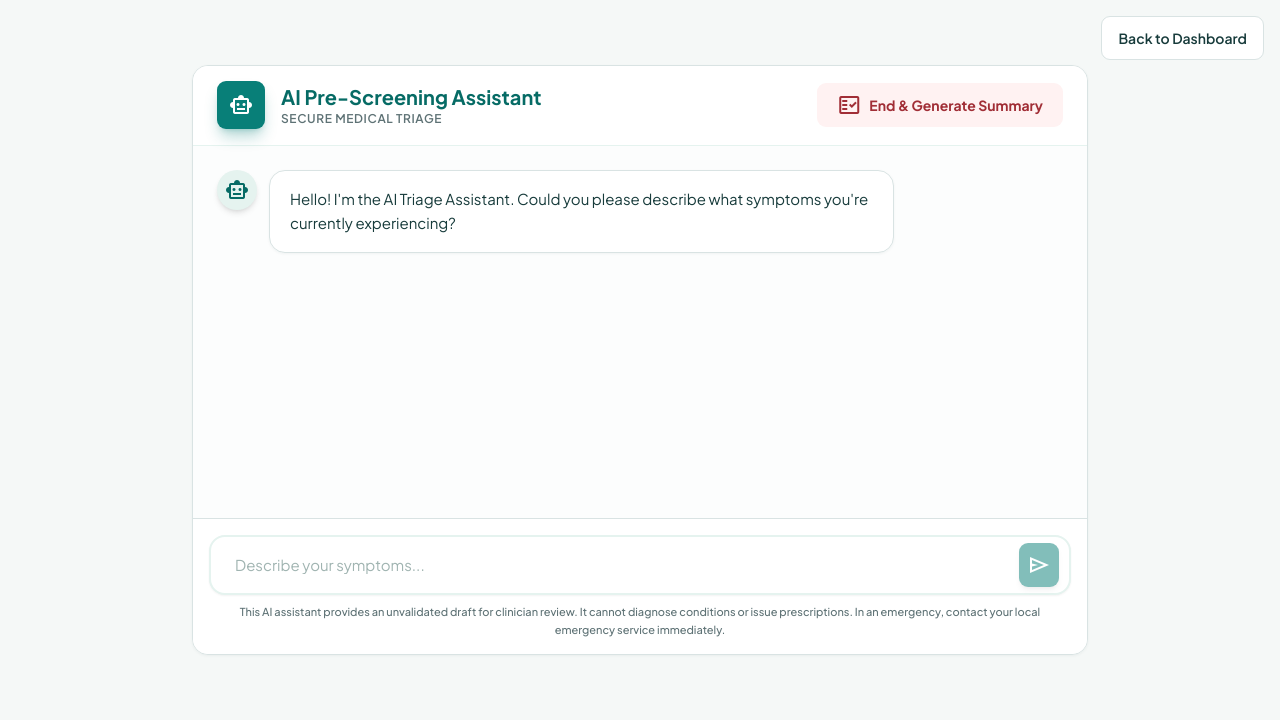
Test case: allows retry after summary failure and labels successful summaries as unvalidated drafts
Click the button "End & Generate Summary": (940, 105) top-left (817, 83), bottom-right (1063, 127)
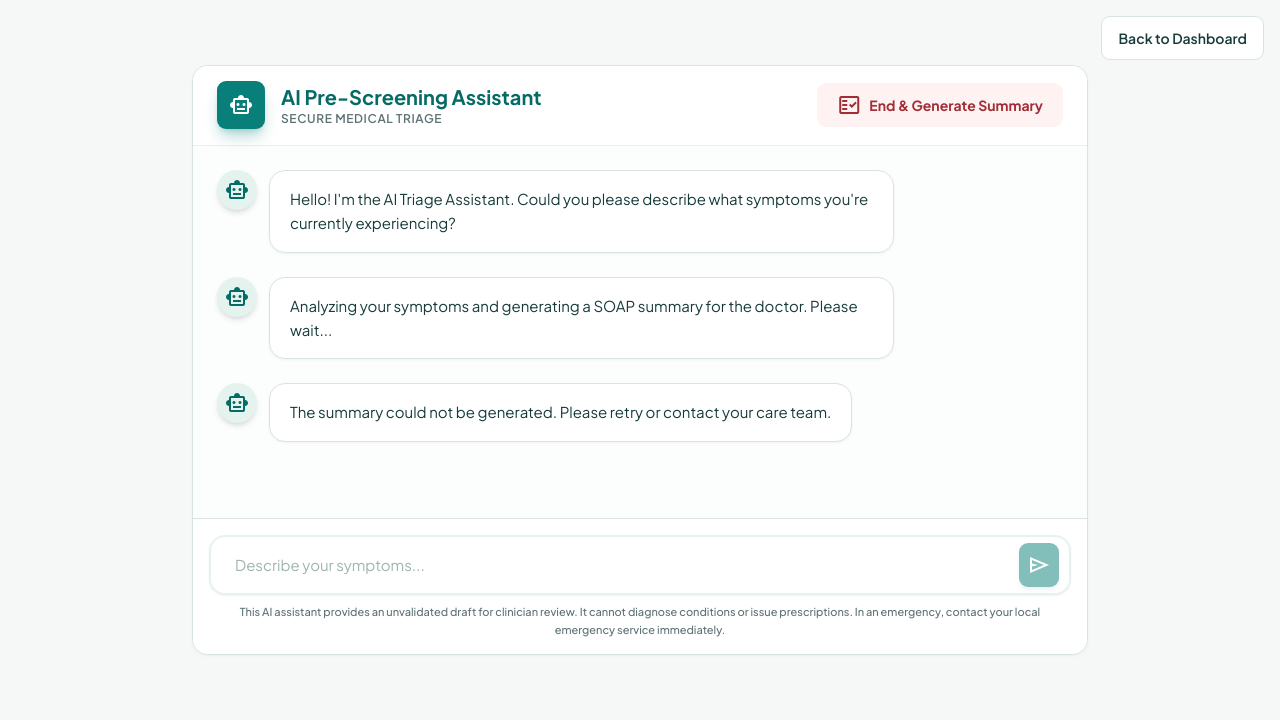
Expected: the field with placeholder "Describe your symptoms..." is enabled, top-left (209, 535), bottom-right (1071, 595)
Result: the text "The summary could not be generated" is shown at top-left (290, 402), bottom-right (831, 421)
Click the button "End & Generate Summary": (940, 105) top-left (817, 83), bottom-right (1063, 127)
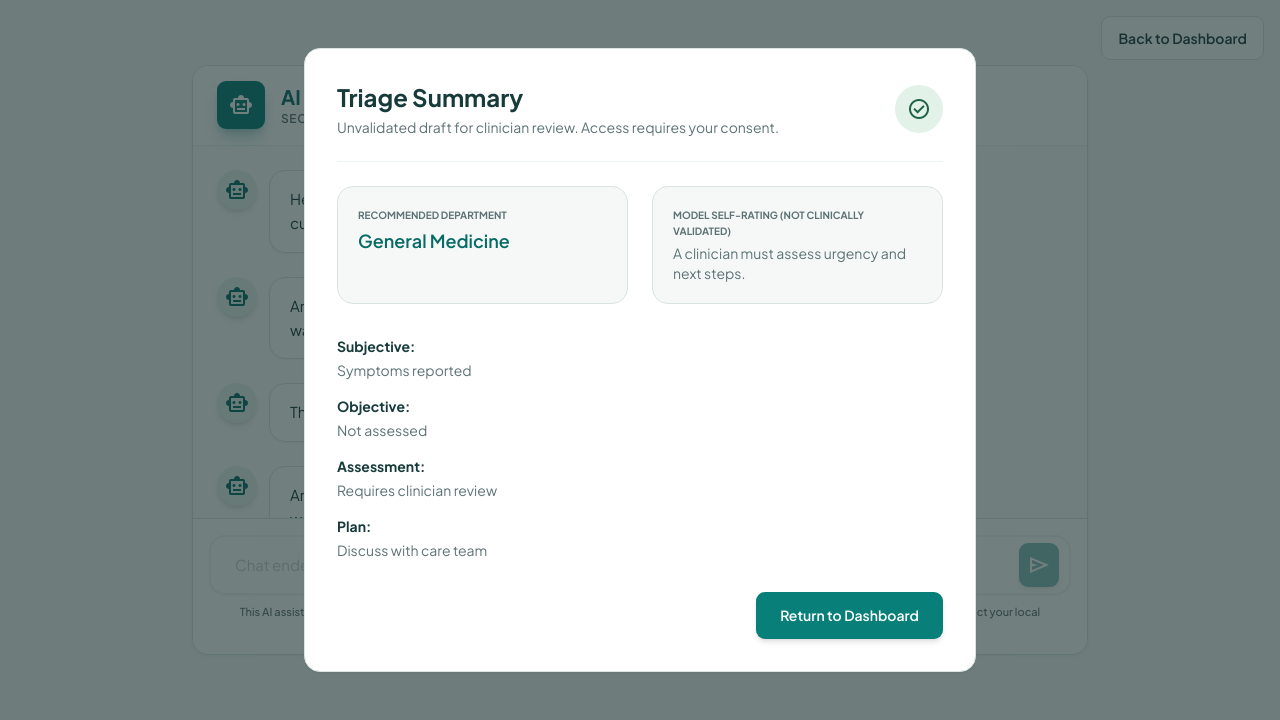
Result: the heading "Triage Summary" is shown at top-left (337, 82), bottom-right (523, 112)
Result: the text "Unvalidated draft for clinician review. Access requires your consent." is shown at top-left (337, 117), bottom-right (779, 137)
Result: the field with placeholder "Chat ended." is disabled at top-left (209, 535), bottom-right (1071, 595)
